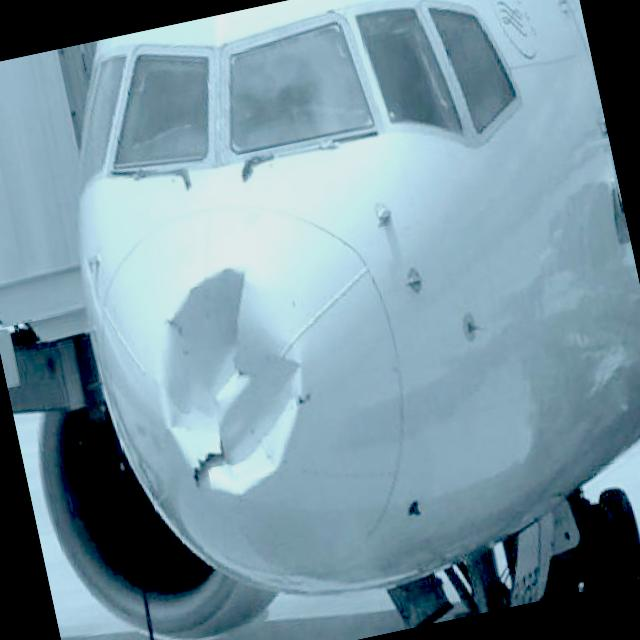dent: (124, 248, 340, 520)
